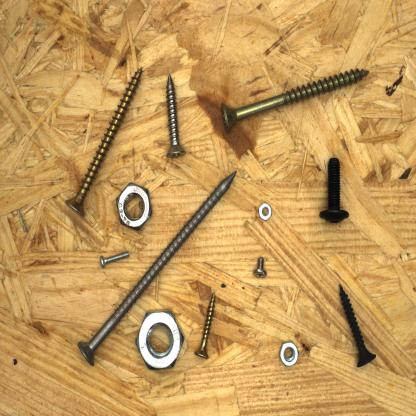screw: (76, 167, 240, 370), (64, 64, 145, 220), (219, 68, 371, 137), (336, 281, 378, 371), (316, 154, 352, 227), (164, 71, 190, 160), (192, 290, 218, 361), (96, 249, 132, 270), (250, 255, 271, 280)
